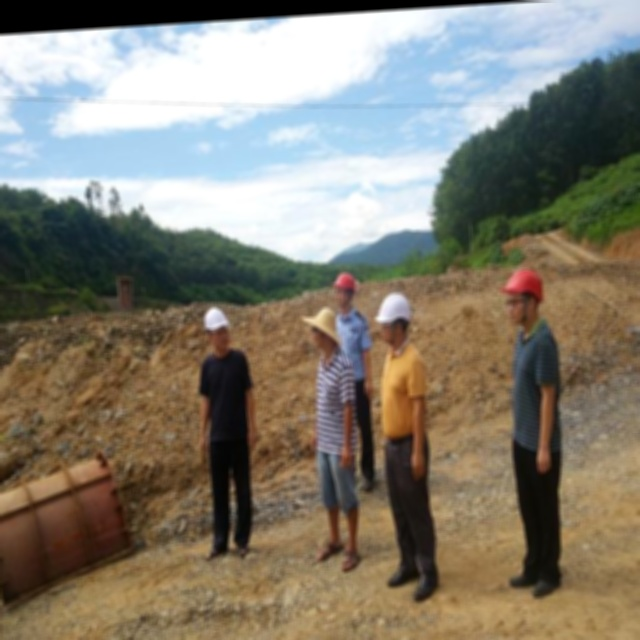Con_Casco: (374, 292, 415, 349), (503, 269, 545, 321)
Sin_Chaleco: (504, 325, 564, 455), (199, 350, 253, 448), (380, 350, 429, 446), (313, 355, 357, 453)
